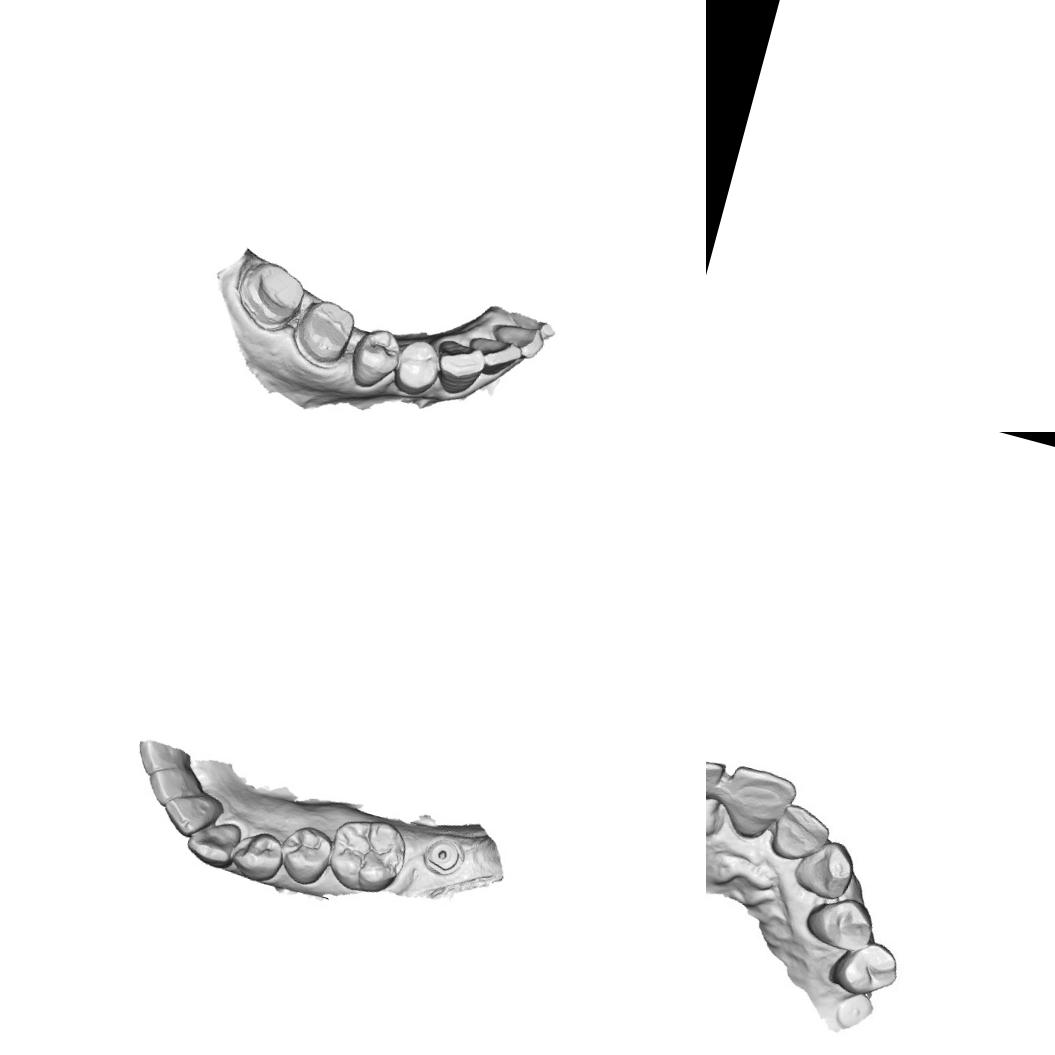canine: (790, 834, 860, 903), (426, 334, 489, 401), (182, 812, 244, 871)
crown: (227, 251, 312, 339), (288, 286, 363, 372)
implant: (420, 832, 468, 880), (832, 989, 874, 1033)
incisor: (718, 763, 796, 844), (156, 782, 228, 844), (772, 798, 831, 865), (142, 758, 206, 814), (130, 737, 195, 787), (484, 314, 548, 364), (463, 330, 526, 378), (706, 747, 725, 814)
molar: (319, 808, 414, 904)
premolar: (800, 887, 882, 957), (826, 934, 904, 1004), (342, 319, 406, 396), (272, 819, 336, 889), (224, 822, 287, 887), (388, 332, 446, 399)
